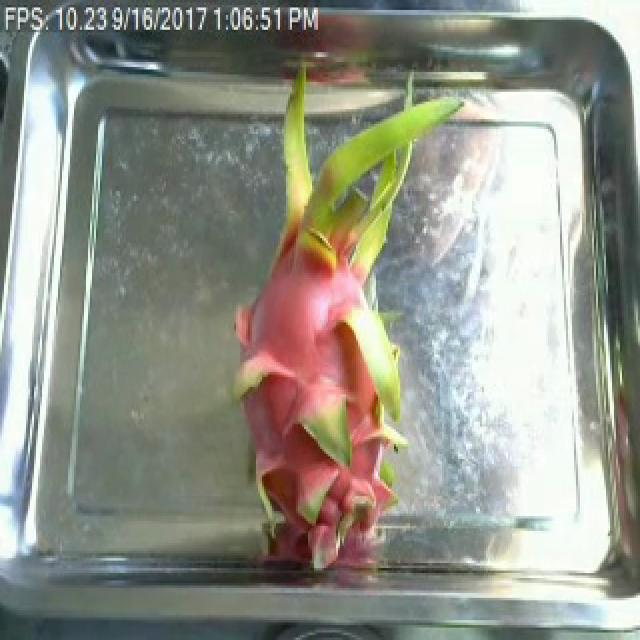fruit: (212, 169, 456, 583)
